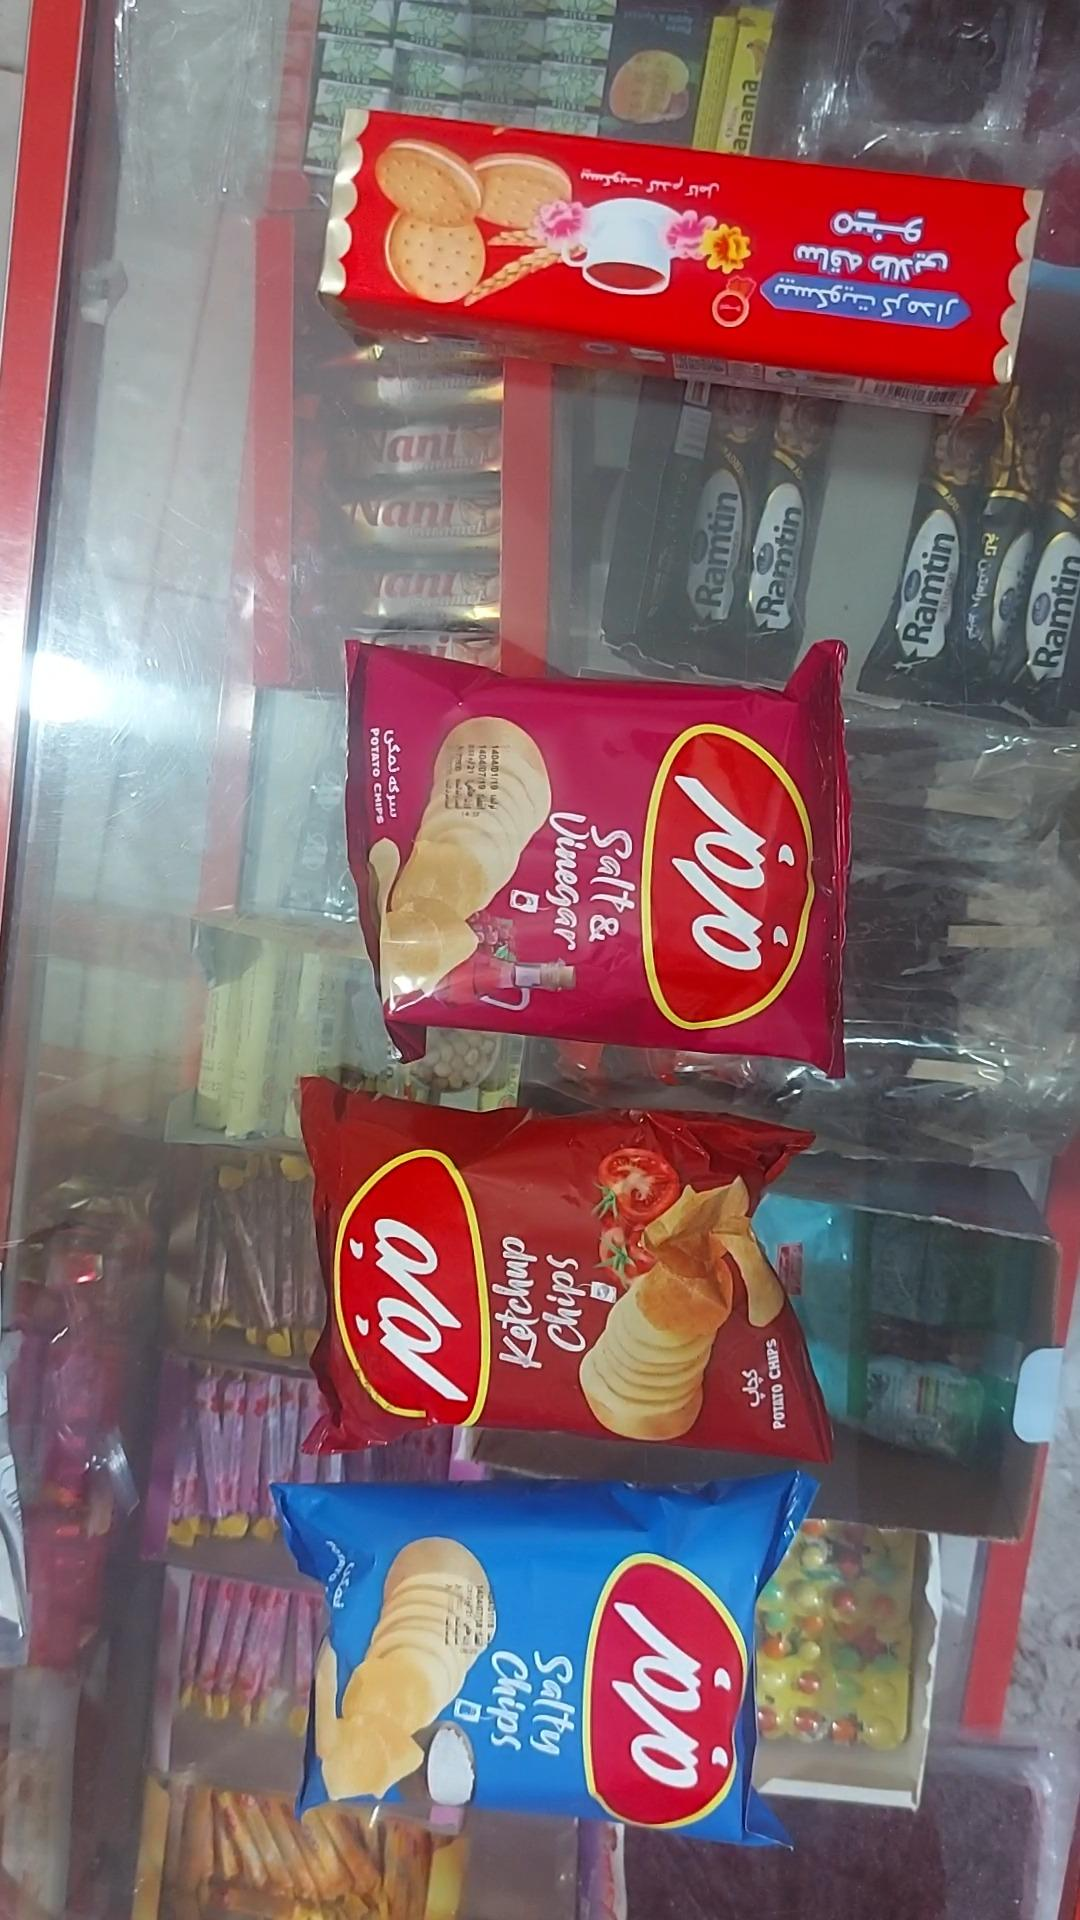Maz Maz ketchup chips: (297, 1077, 832, 1466)
Maz Maz salty chips: (268, 1470, 820, 1846)
Maz Maz vinegar chips: (344, 641, 851, 1081)
Minoo cream biscuit: (315, 108, 1043, 415)
